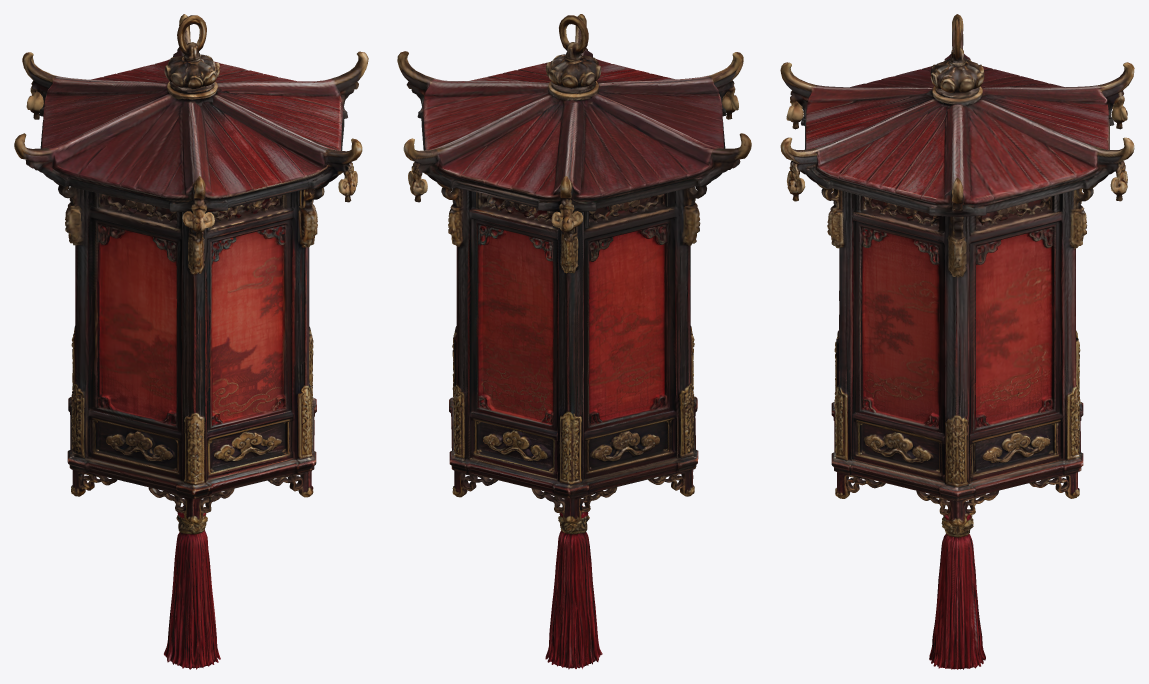
The model's file is 六角宫灯.glb.
The picture shows the model from 3 angles, left to right: view 1: azimuth 30°, elevation 25°; view 2: azimuth 150°, elevation 25°; view 3: azimuth 270°, elevation 25°; orthographic projection.
Visible parts, largest first — view 1: tripo_node_9a43a952-0276-4a43-8969-bd6354cdcae1; view 2: tripo_node_9a43a952-0276-4a43-8969-bd6354cdcae1; view 3: tripo_node_9a43a952-0276-4a43-8969-bd6354cdcae1.
Boxes of the visible parts, bbox=[...] form: tripo_node_9a43a952-0276-4a43-8969-bd6354cdcae1: bbox=[14, 14, 368, 669]; tripo_node_9a43a952-0276-4a43-8969-bd6354cdcae1: bbox=[397, 14, 751, 669]; tripo_node_9a43a952-0276-4a43-8969-bd6354cdcae1: bbox=[780, 14, 1134, 669].
Bounding box in the file's own units: 0.5645 × 0.9796 × 0.4911.
Materials: 1 (1 with a texture image).
